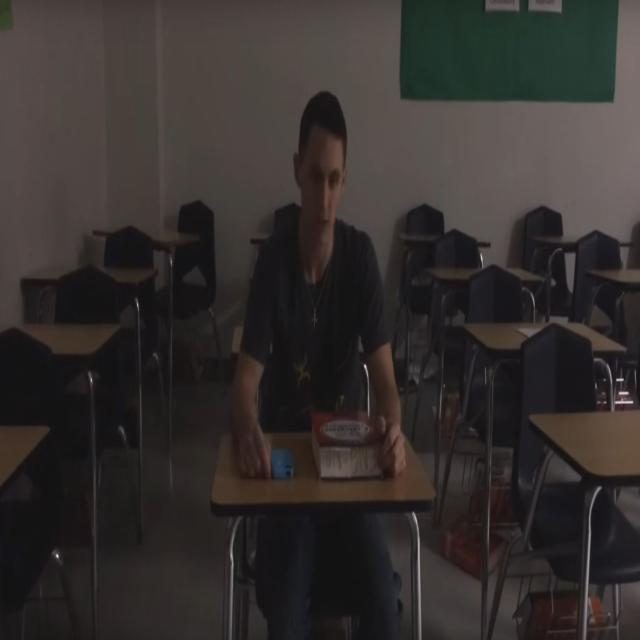non-cheating: (246, 407, 309, 491)
